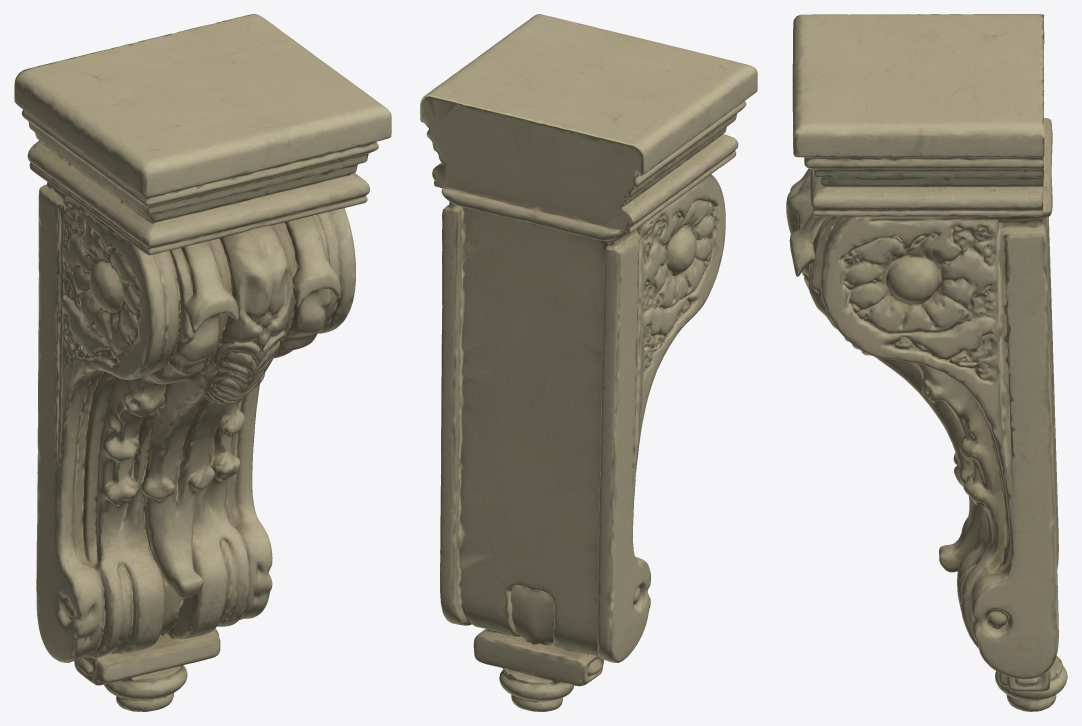
The model's file is corbel-bracket-elephant-head-optimized.glb.
3 renders of one model, left to right at view 1: azimuth 30°, elevation 25°; view 2: azimuth 150°, elevation 25°; view 3: azimuth 270°, elevation 25°, orthographic. The views are drawn at different scales.
Parts seen in each view (by area): view 1: world; view 2: world; view 3: world.
Boxes of the visible parts, box(x1,y1,x2,y2) form: world: box(14, 14, 391, 711); world: box(420, 14, 757, 711); world: box(786, 14, 1067, 711).
Bounding box in the file's own units: 0.3981 × 1 × 0.4025.
Materials: 1 (1 with a texture image).
